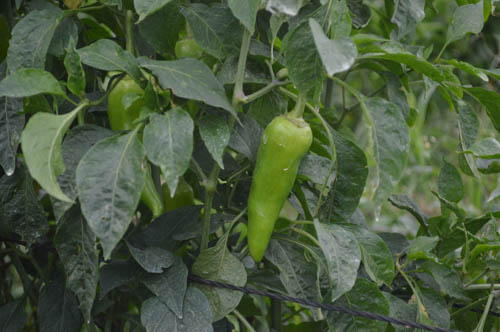ChiliPepper: (247, 121, 310, 261), (112, 79, 159, 213)
